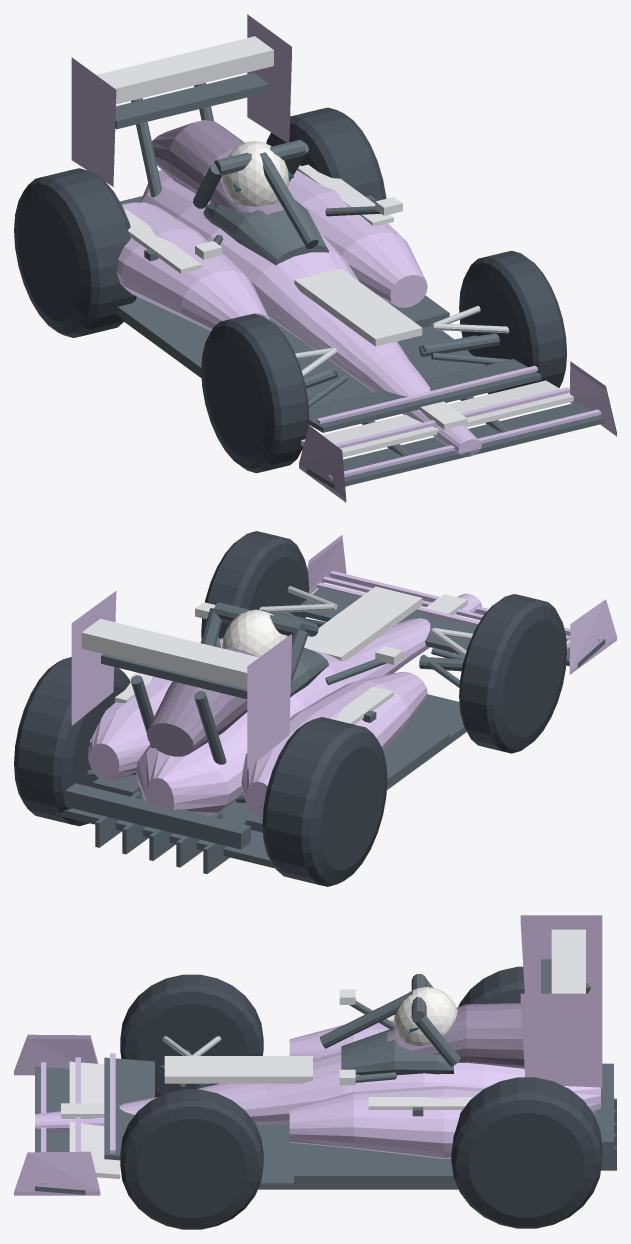
The model's file is byd_high.glb.
3 views of the same model, one above another, from view 1: azimuth 30°, elevation 25°; view 2: azimuth 150°, elevation 25°; view 3: azimuth 270°, elevation 25° (orthographic). The views are drawn at different scales.
Parts seen in each view (by area): view 1: BODY_paint, BODY_carbon, BODY_accent, RearLeftWheel_rubber, FrontLeftWheel_rubber, FrontRightWheel_rubber, RearRightWheel_rubber, BODY_paint_dark, BODY_helmet, BODY_metal; view 2: BODY_paint, BODY_carbon, RearLeftWheel_rubber, FrontLeftWheel_rubber, BODY_accent, RearRightWheel_rubber, FrontRightWheel_rubber, BODY_paint_dark, BODY_helmet, BODY_metal; view 3: BODY_paint, BODY_carbon, RearRightWheel_rubber, FrontRightWheel_rubber, BODY_accent, FrontLeftWheel_rubber, BODY_paint_dark, BODY_helmet, RearLeftWheel_rubber.
Boxes of the visible parts, <box> form: BODY_paint: <box>71,14,616,502</box>; BODY_carbon: <box>115,72,604,488</box>; BODY_accent: <box>96,36,573,457</box>; RearLeftWheel_rubber: <box>14,168,136,337</box>; FrontLeftWheel_rubber: <box>201,313,309,473</box>; FrontRightWheel_rubber: <box>459,250,566,394</box>; RearRightWheel_rubber: <box>266,107,386,200</box>; BODY_paint_dark: <box>152,120,284,214</box>; BODY_helmet: <box>221,141,289,206</box>; BODY_metal: <box>295,305,509,376</box>; BODY_paint: <box>71,535,616,818</box>; BODY_carbon: <box>56,576,605,873</box>; RearLeftWheel_rubber: <box>262,717,387,886</box>; FrontLeftWheel_rubber: <box>459,594,566,753</box>; BODY_accent: <box>81,582,569,724</box>; RearRightWheel_rubber: <box>14,657,130,826</box>; FrontRightWheel_rubber: <box>201,531,309,638</box>; BODY_paint_dark: <box>147,648,257,756</box>; BODY_helmet: <box>222,609,287,657</box>; BODY_metal: <box>90,586,472,743</box>; BODY_paint: <box>14,915,602,1195</box>; BODY_carbon: <box>35,959,616,1194</box>; RearRightWheel_rubber: <box>451,1077,602,1228</box>; FrontRightWheel_rubber: <box>120,1089,263,1229</box>; BODY_accent: <box>61,929,585,1178</box>; FrontLeftWheel_rubber: <box>120,974,263,1097</box>; BODY_paint_dark: <box>387,1003,524,1068</box>; BODY_helmet: <box>393,987,457,1045</box>; RearLeftWheel_rubber: <box>458,966,524,1006</box>.
Size of the model in its own units: 2.59 by 1.9 by 4.88.
